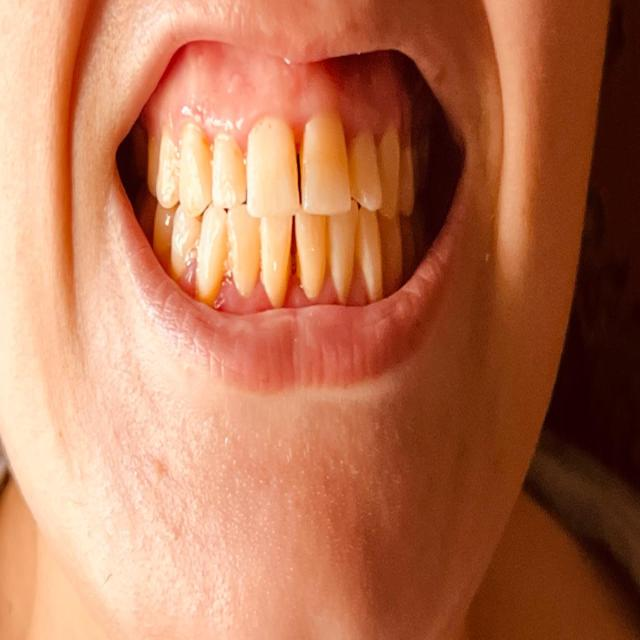tooth: (246, 118, 300, 220), (301, 116, 352, 212), (351, 132, 385, 214), (177, 131, 212, 208), (329, 201, 357, 297), (259, 217, 293, 294), (358, 207, 384, 303), (213, 128, 243, 208), (299, 212, 325, 294), (230, 217, 260, 286), (200, 204, 222, 290), (170, 210, 198, 268), (387, 223, 408, 292), (161, 137, 177, 204)
